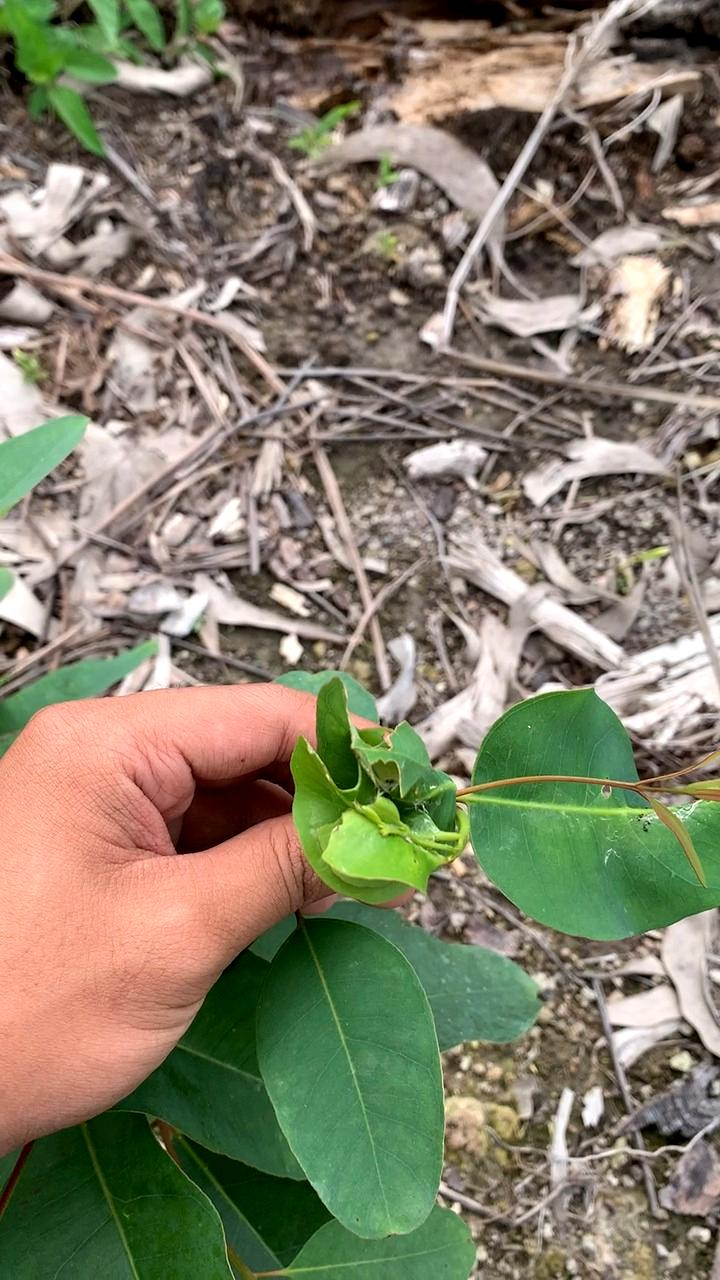Leaf Roller - Leaf: (296, 670, 471, 923)
